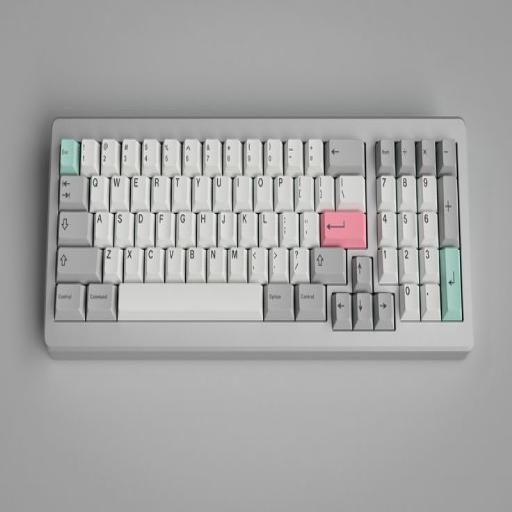KEYBOARD-2: (45, 117, 472, 352)
